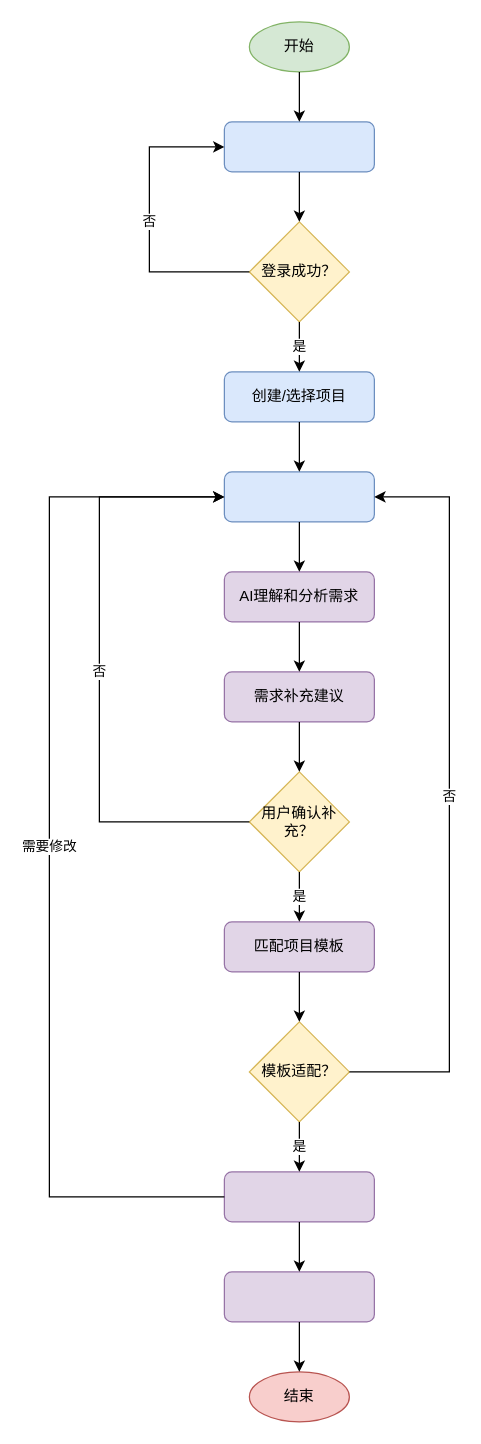
Some shapes in this 481 by 1444 pixel diagram are drawn without their labels. The centre of each missing label's shape, as x and y in pixels:
生成代码: point (298, 1196)
生成测试: point (298, 1296)
用户注册/登录: point (298, 146)
输入需求描述: point (298, 496)
